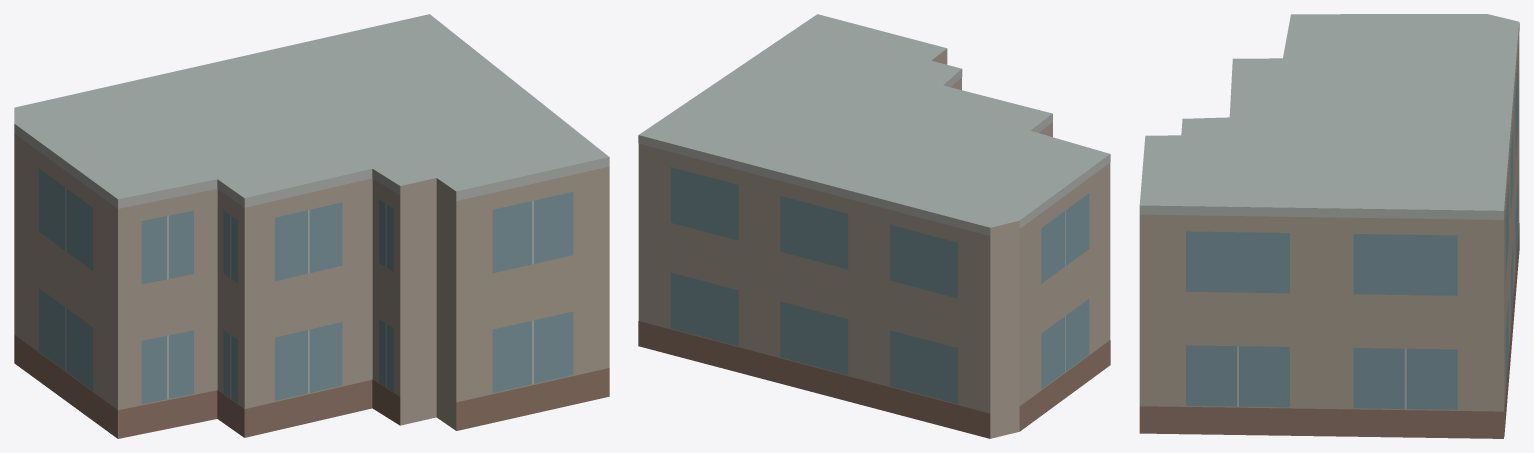
File: survey-upis-32663289.glb
3 renders of one model, left to right at view 1: azimuth 30°, elevation 25°; view 2: azimuth 150°, elevation 25°; view 3: azimuth 270°, elevation 25°, orthographic. The views are drawn at different scales.
Parts seen in each view (by area): view 1: survey-upis-32663289.tmp; view 2: survey-upis-32663289.tmp; view 3: survey-upis-32663289.tmp.
Boxes of the visible parts, <box> form: survey-upis-32663289.tmp: <box>14,14,609,438</box>; survey-upis-32663289.tmp: <box>638,14,1110,438</box>; survey-upis-32663289.tmp: <box>1139,14,1519,438</box>.
Size of the model in its own units: 11.31 by 6.1 by 9.22.
